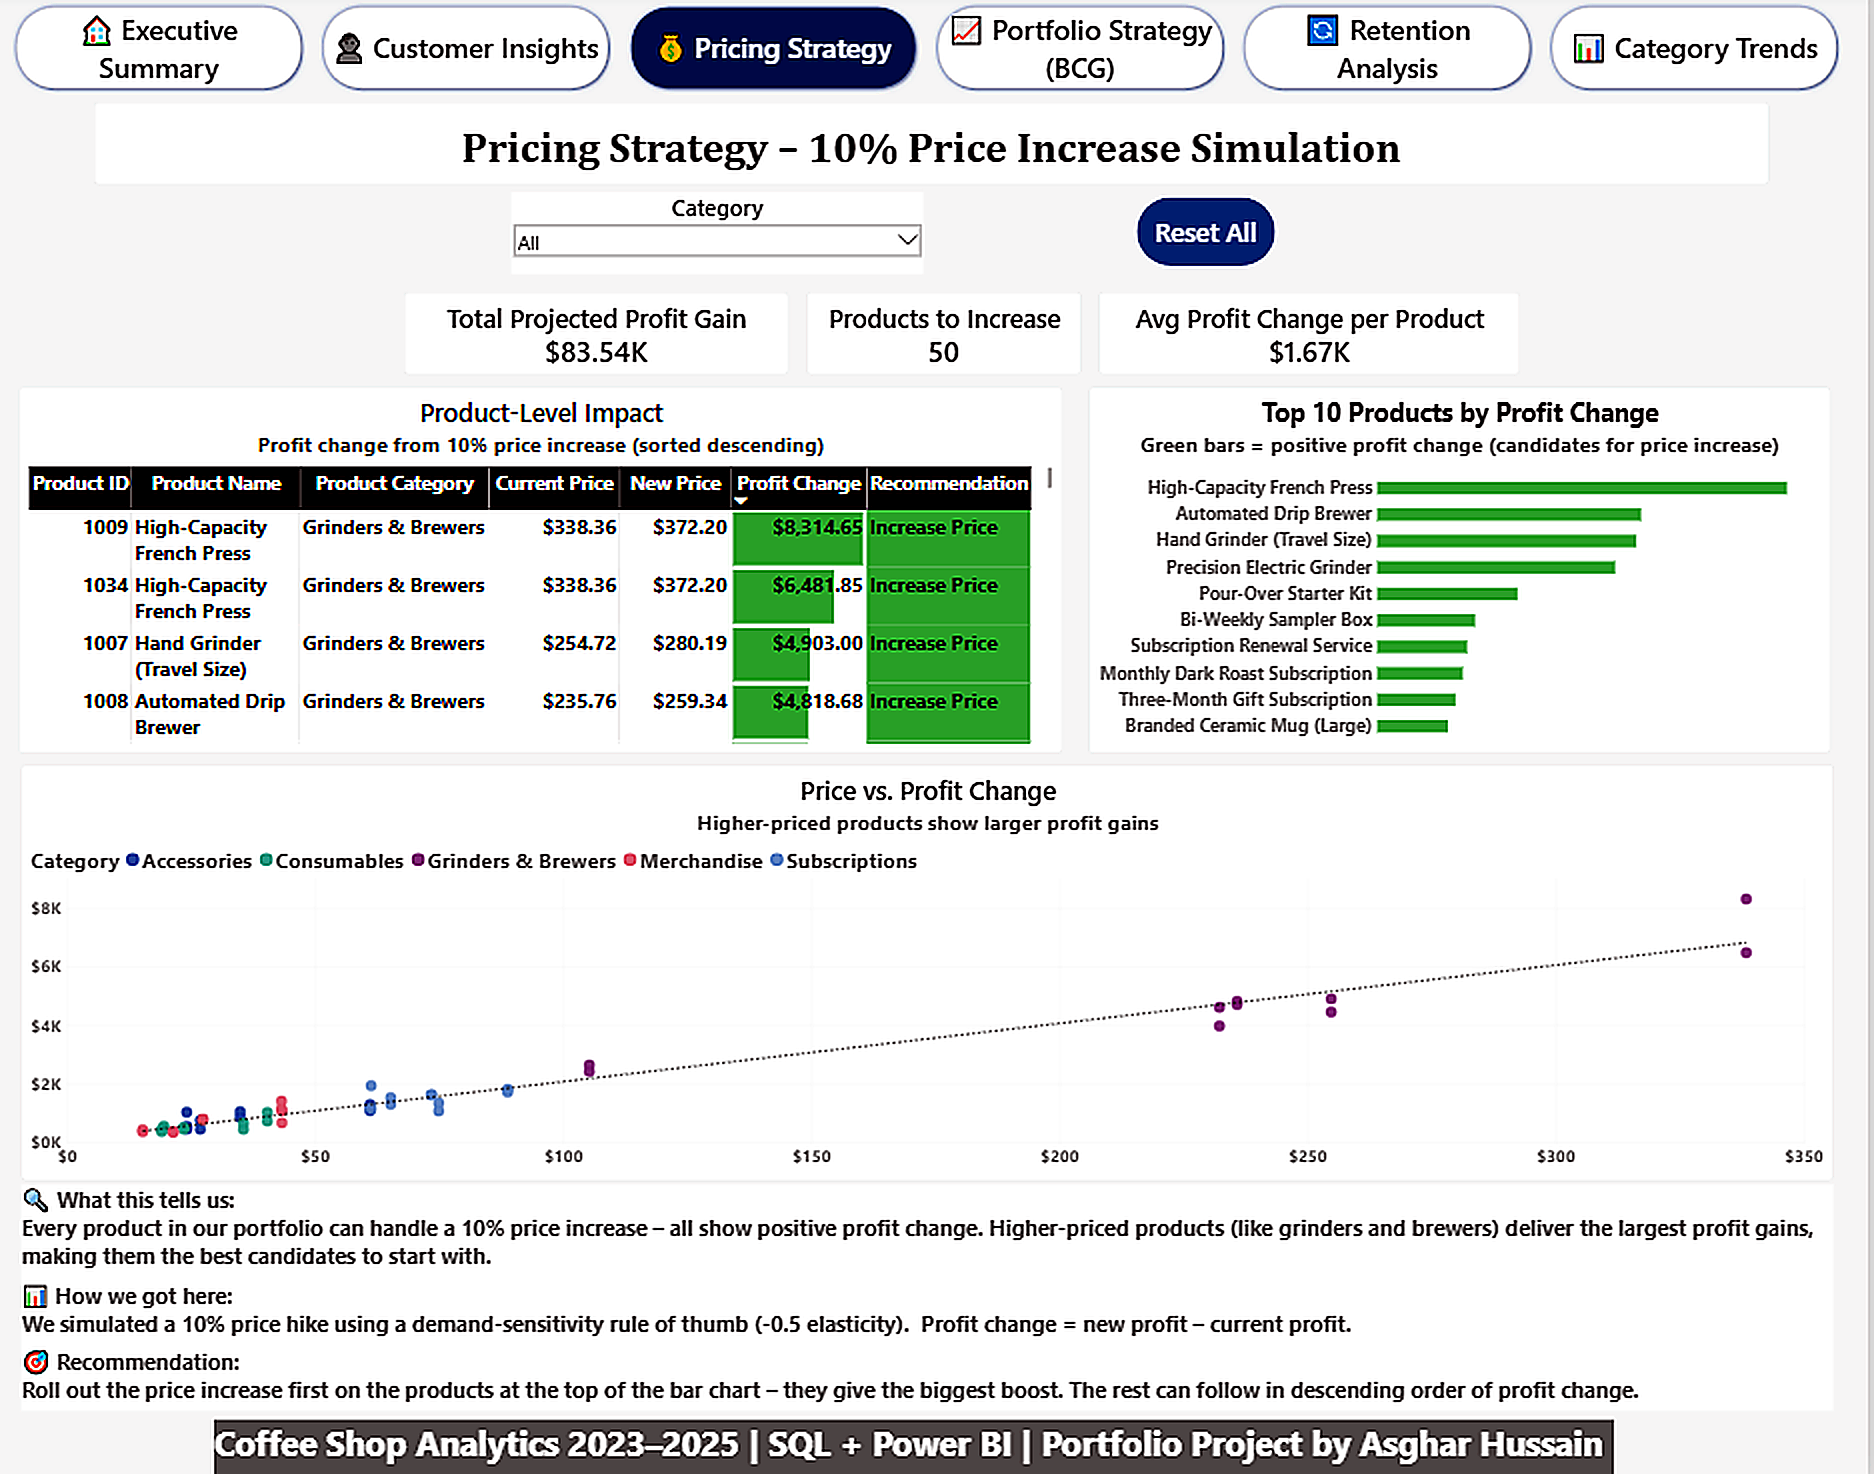

The dashboard page shown, as its layout file describes it:
{"tool":"powerbi","page":{"name":"💰 Pricing Strategy","canvas":[3277,2600],"ordinal":5},"visuals":[{"type":"tableEx","title":"Product‑Level Impact","fields":{"Values":["v_price_optimization.productid","v_price_optimization.productname","v_price_optimization.productcategory","v_price_optimization.current_price","v_price_optimization.new_price","v_price_optimization.profit_change","v_price_optimization.recommendation"]},"box":[43.5,689.2,1824,641],"z":0},{"type":"clusteredBarChart","title":"Top 10 Products by Profit Change","fields":{"Category":["v_price_optimization.productname"],"Y":["Sum(v_price_optimization.profit_change)"]},"box":[1915.5,689.2,1296,641],"z":1000},{"type":"card","fields":{"Values":["v_price_optimization.Dynamic Pricing Title"]},"box":[174.5,192,2928,144],"z":2000},{"type":"card","title":"Total Projected Profit Gain","fields":{"Values":["v_price_optimization.Total Profit Gain"]},"box":[715.4,523,672,144],"z":3000},{"type":"card","title":"Products to Increase","fields":{"Values":["v_price_optimization.Recommended Count"]},"box":[1419.4,523,480,144],"z":4000},{"type":"card","title":"Avg Profit Change per Product","fields":{"Values":["v_price_optimization.Avg Profit Change"]},"box":[1931.4,523,736,144],"z":5000},{"type":"slicer","title":"Category","fields":{"Values":["v_price_optimization.productcategory"]},"box":[906.3,348.3,720,144],"z":6000},{"type":"actionButton","box":[1999.3,359.5,243,121],"z":7000},{"type":"scatterChart","title":"Price vs. Profit Change","fields":{"X":["v_price_optimization.current_price"],"Y":["v_price_optimization.profit_change"],"Series":["v_price_optimization.productcategory"]},"box":[48,1349,3168,727],"z":8000},{"type":"textbox","box":[48,2087,3168,395],"z":9000},{"type":"pageNavigator","box":[32,18,3200,160],"z":10000},{"type":"textbox","box":[384,2496,2448,96],"z":11000}]}

Visuals, with their boxes in screenshot pixels (x1, y1, x2, y2), scaled from the page's 3277x2600 canvas onto the 1874x1474 screenshot:
"Product‑Level Impact" tableEx: Rect(25, 391, 1068, 754)
"Top 10 Products by Profit Change" clusteredBarChart: Rect(1095, 391, 1837, 754)
card - v_price_optimization.Dynamic Pricing Title: Rect(100, 109, 1774, 190)
"Total Projected Profit Gain" card: Rect(409, 297, 793, 378)
"Products to Increase" card: Rect(812, 297, 1086, 378)
"Avg Profit Change per Product" card: Rect(1104, 297, 1525, 378)
"Category" slicer: Rect(518, 197, 930, 279)
actionButton: Rect(1143, 204, 1282, 272)
"Price vs. Profit Change" scatterChart: Rect(27, 765, 1839, 1177)
textbox: Rect(27, 1183, 1839, 1407)
pageNavigator: Rect(18, 10, 1848, 101)
textbox: Rect(220, 1415, 1620, 1469)
